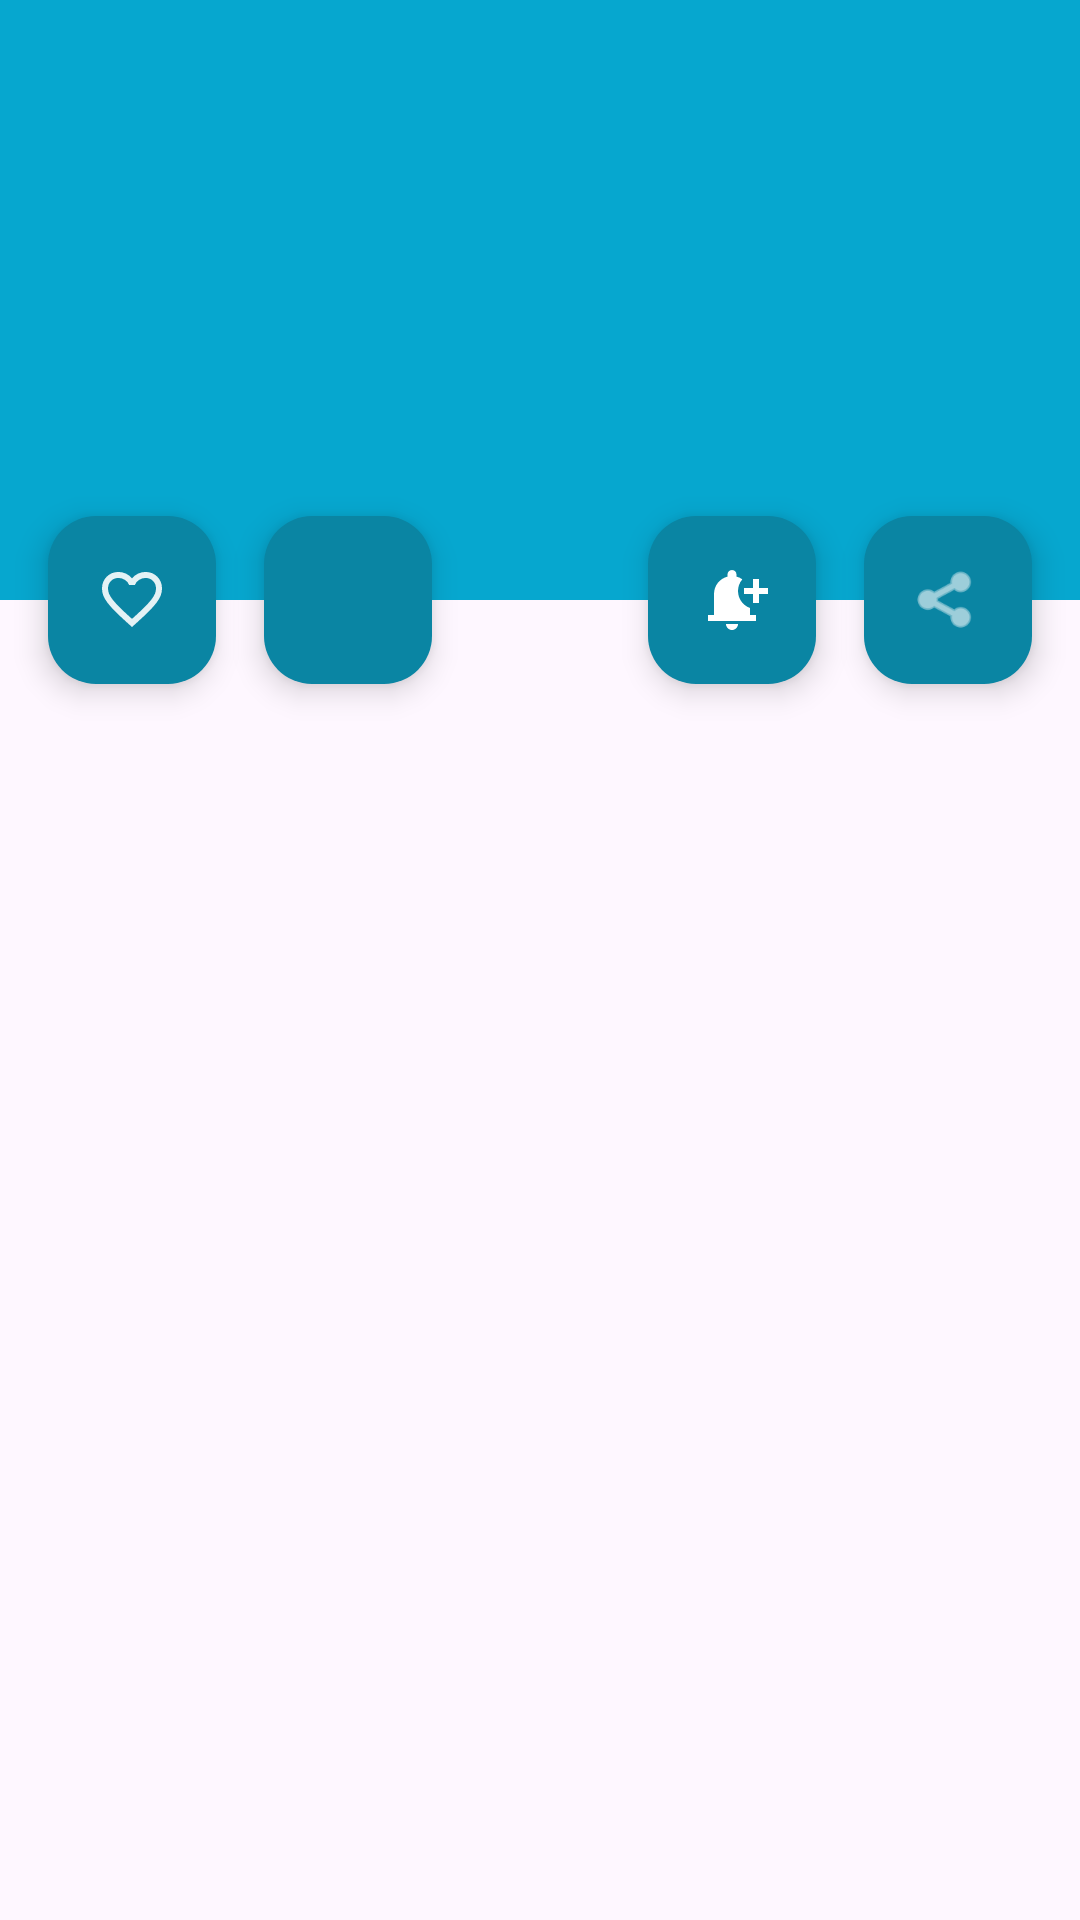

Where to tap for icons on this 1080*1920 app screen, as (x,y):
fav: (132,600)
share: (948,600)
